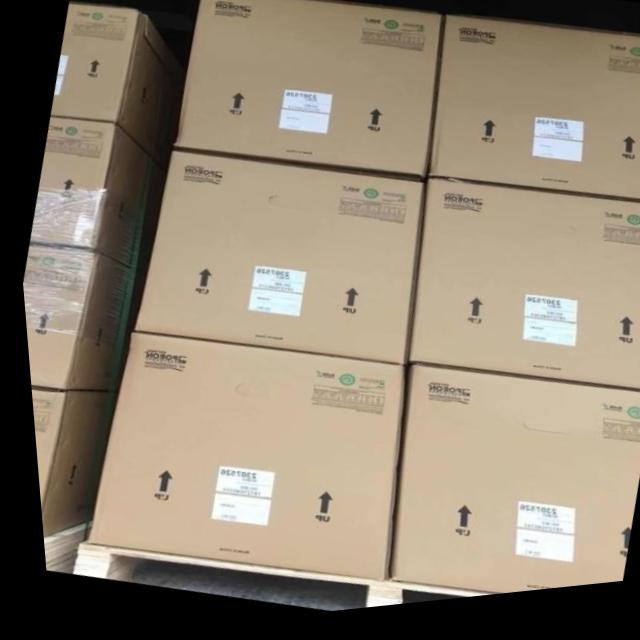box: (75, 337, 396, 588), (130, 151, 418, 368), (378, 371, 639, 603), (399, 186, 640, 403), (170, 0, 442, 180), (421, 25, 640, 211), (26, 114, 154, 275), (49, 5, 180, 162), (18, 241, 132, 392), (25, 384, 110, 537)
